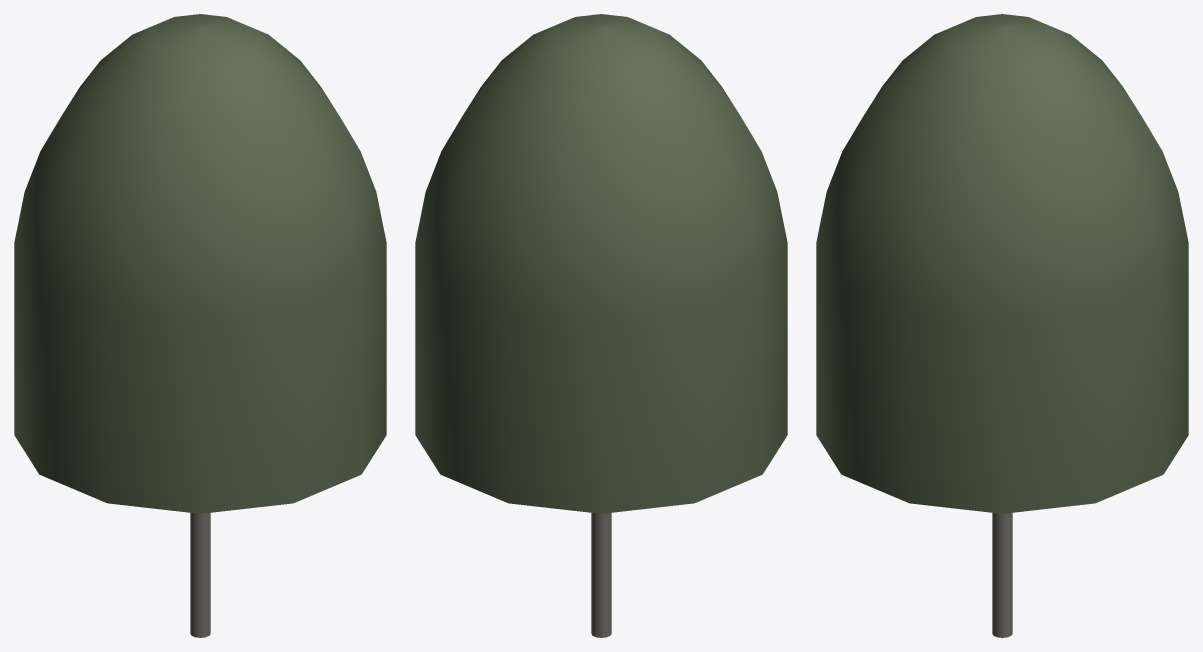
File: White_Willow_Analytical_0.obj
3 renders of one model, left to right at view 1: azimuth 30°, elevation 25°; view 2: azimuth 150°, elevation 25°; view 3: azimuth 270°, elevation 25°, orthographic.
Visible parts, largest first — view 1: AnalyticalCrown, AnalyticalTrunk; view 2: AnalyticalCrown, AnalyticalTrunk; view 3: AnalyticalCrown, AnalyticalTrunk.
Boxes of the visible parts, x1,y1,x2,y2 form: AnalyticalCrown: (14, 14, 386, 513); AnalyticalTrunk: (190, 513, 210, 637); AnalyticalCrown: (415, 14, 787, 513); AnalyticalTrunk: (591, 513, 611, 637); AnalyticalCrown: (816, 14, 1188, 513); AnalyticalTrunk: (992, 513, 1012, 637).
Bounding box in the file's own units: 8.34 × 15 × 8.34.
